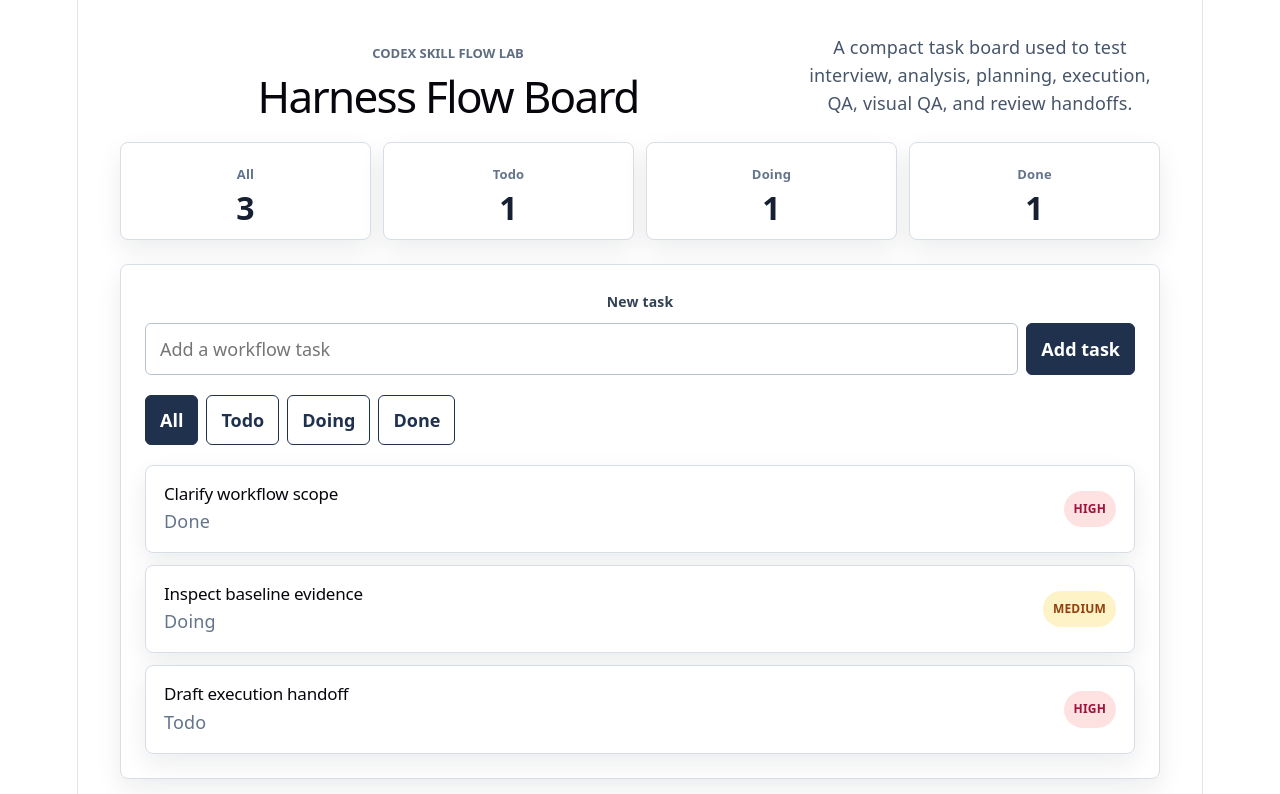
Test: Harness Flow Board › adds a task from the input
Type "Write QA notes" into the field labelled "New task" at (582,349), box [145,323,1018,375]
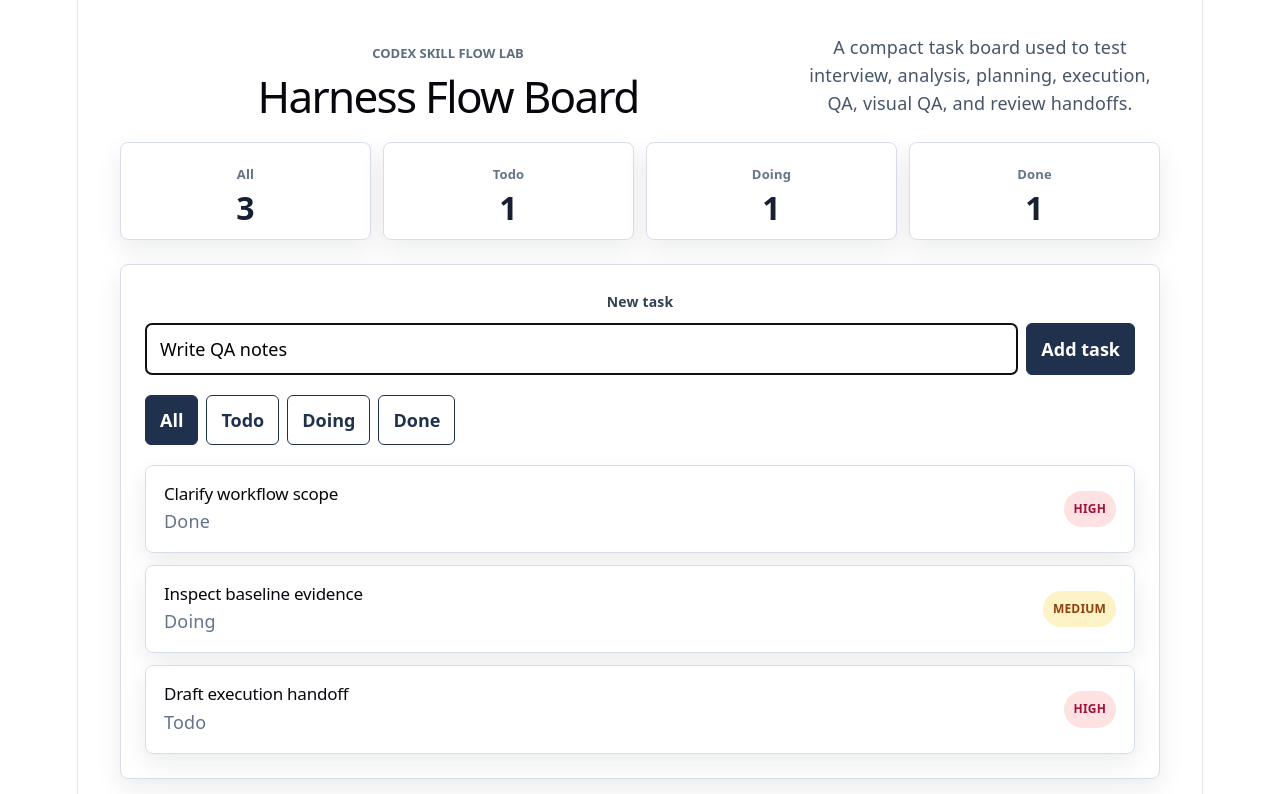
Click the button "Add task" at (1081,349), box [1026,323,1135,375]
(page scrolled)
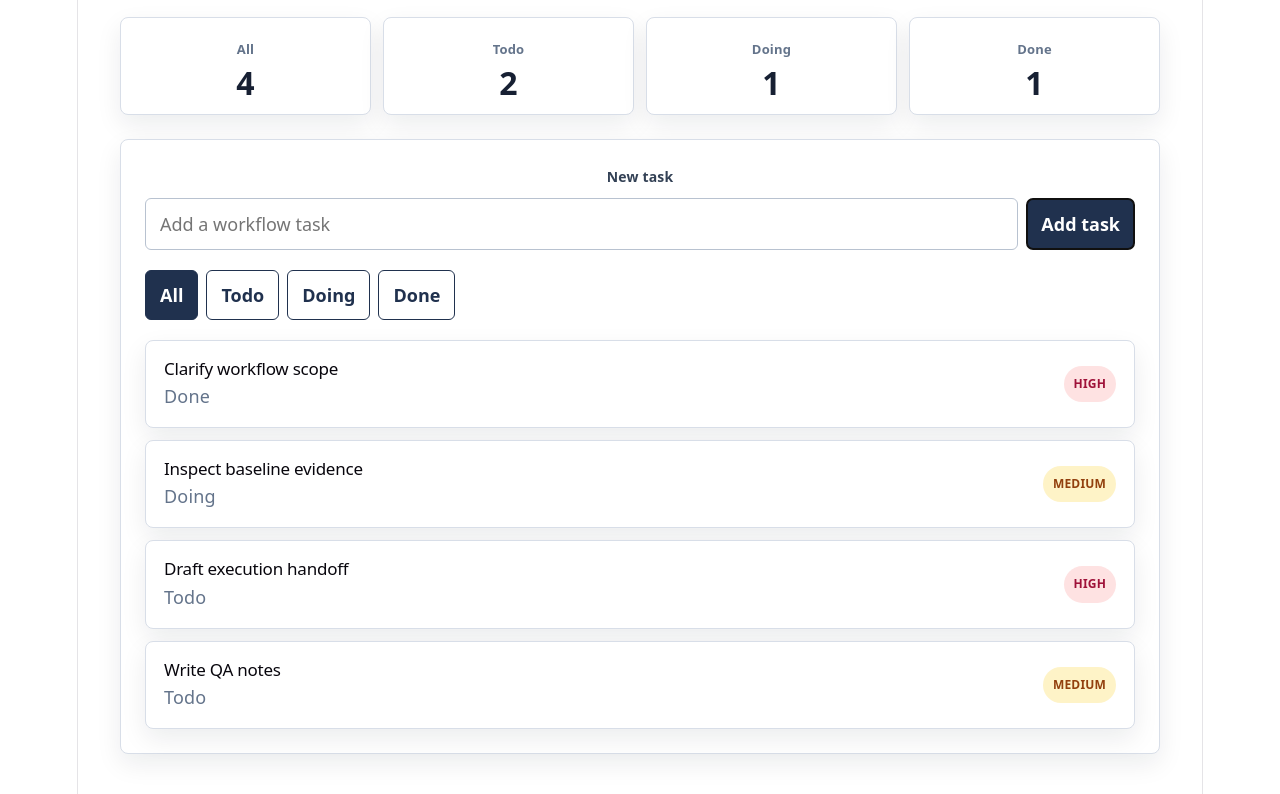
Check: the heading "Write QA notes" is shown, box [164,660,281,680]
